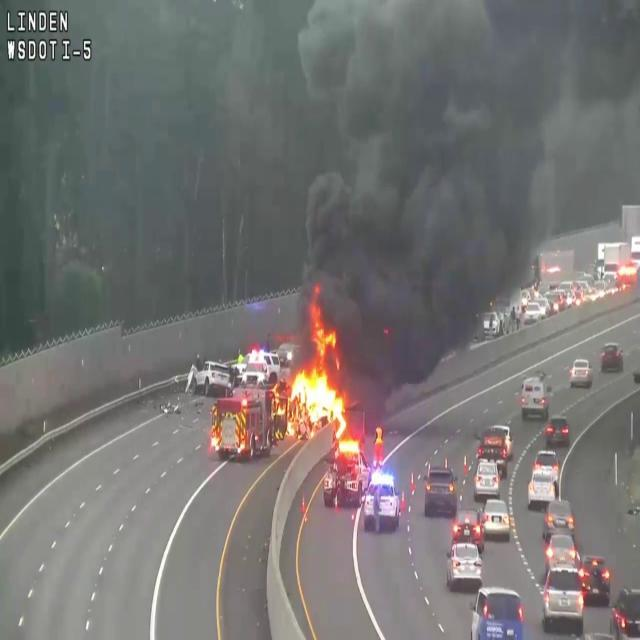Fire: (281, 350, 349, 431), (611, 258, 639, 282)
Smoke: (282, 2, 638, 345)
